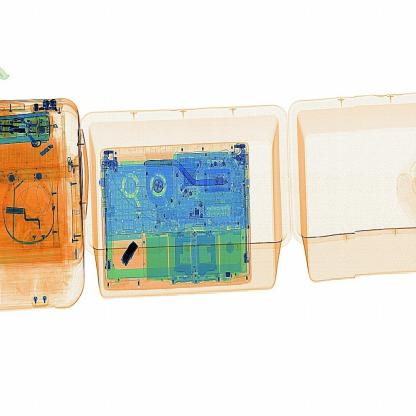scissors: (116, 233, 144, 277)
